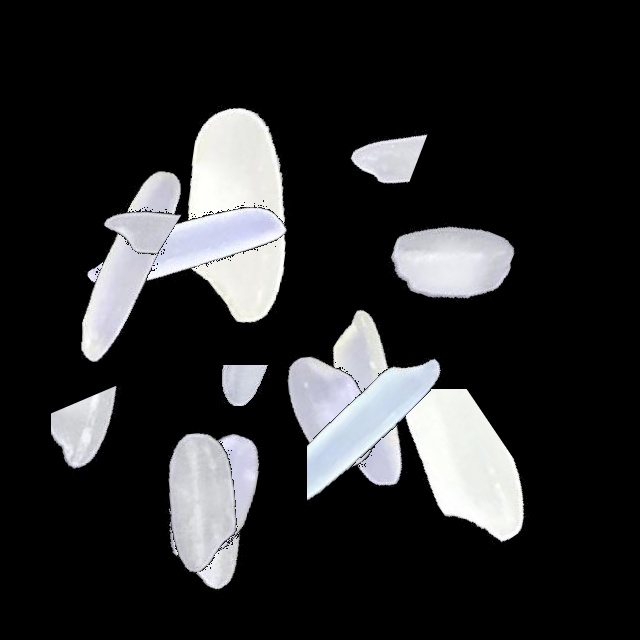Broken: (307, 335, 471, 585), (299, 389, 549, 551), (237, 66, 487, 192), (51, 328, 172, 578), (63, 68, 184, 318), (134, 365, 384, 462)
Full: (114, 91, 364, 341), (58, 124, 308, 374), (85, 389, 335, 639), (4, 140, 254, 390), (326, 138, 576, 388), (91, 364, 341, 614), (247, 275, 497, 525), (205, 285, 455, 535), (78, 375, 328, 625)
